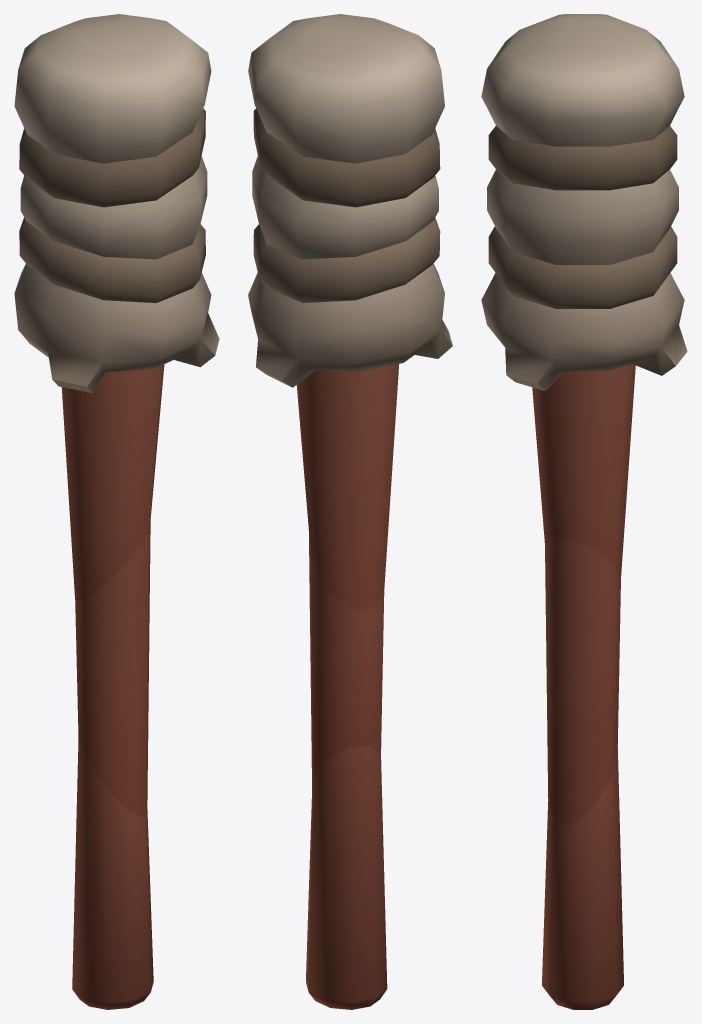
Rendered from fackla.glb.
3 renders of one model, left to right at view 1: azimuth 30°, elevation 25°; view 2: azimuth 150°, elevation 25°; view 3: azimuth 270°, elevation 25°, orthographic.
Parts seen in each view (by area): view 1: torch; view 2: torch; view 3: torch.
Part boxes in pixels (x1,y1,x2,y2): torch: (14,14,219,1009); torch: (248,14,452,1009); torch: (481,14,687,1009).
Size of the model in its own units: 0.2109 by 1.17 by 0.2254.
1 material, 1 textured.
